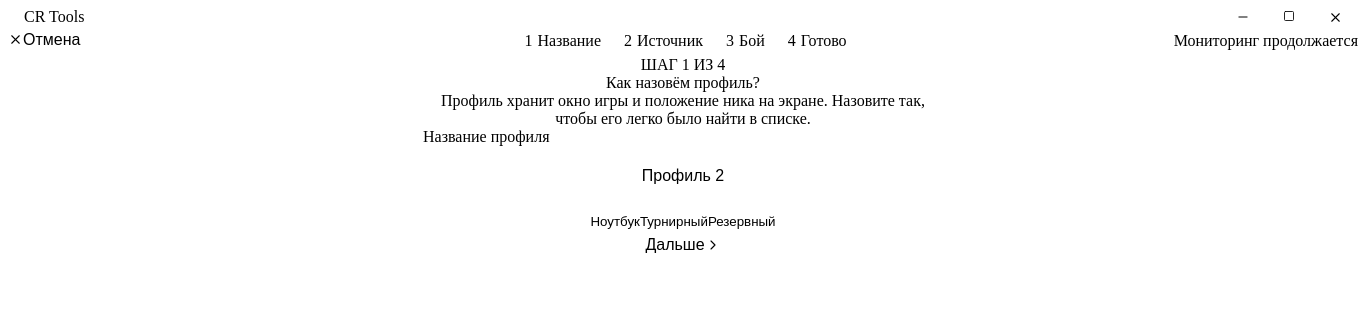
setup flow: new profile › goes back from the source to the name and keeps the typed name
Replace the text in the field labelled "Название профиля" with "Турнирный" at (683, 176), box [423,146,943,206]
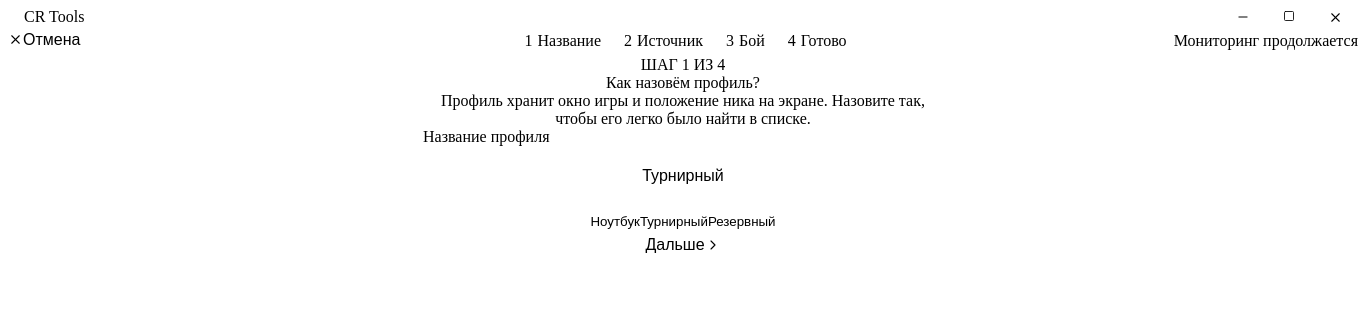
Click the button "Дальше" at (683, 245), box [645,236,720,254]
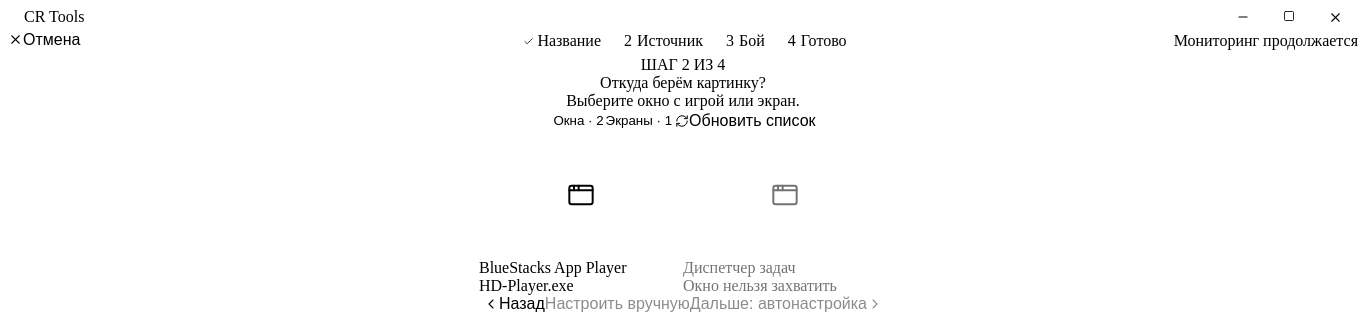
Click the button "BlueStacks App Player HD-Player.exe" at (581, 213), box [479,131,683,294]
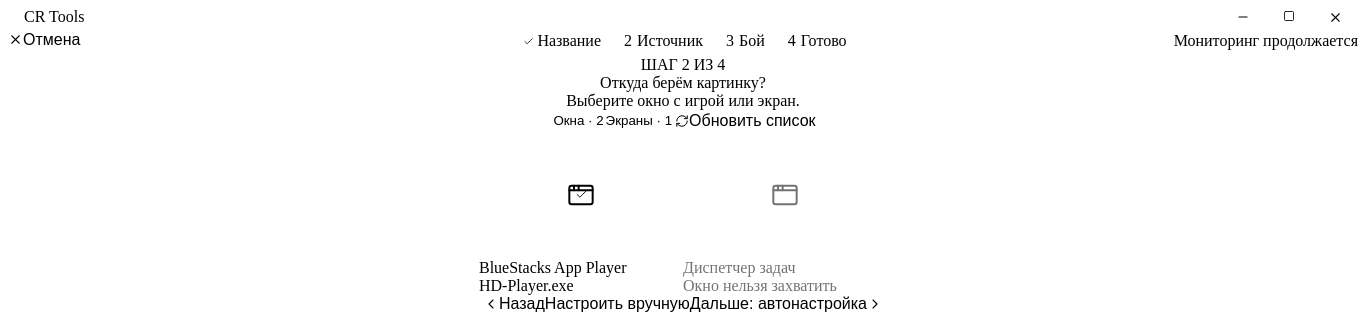
Now the button "Настроить вручную" is enabled, box [545,294,690,312]
Click the button "Назад" at (514, 304), box [483,294,545,312]
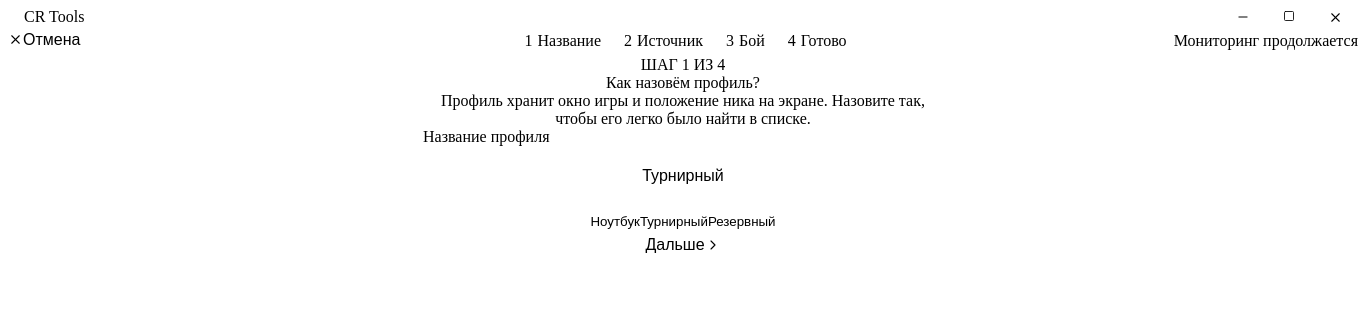
Now the field labelled "Название профиля" holds "Турнирный", box [423,146,943,206]
